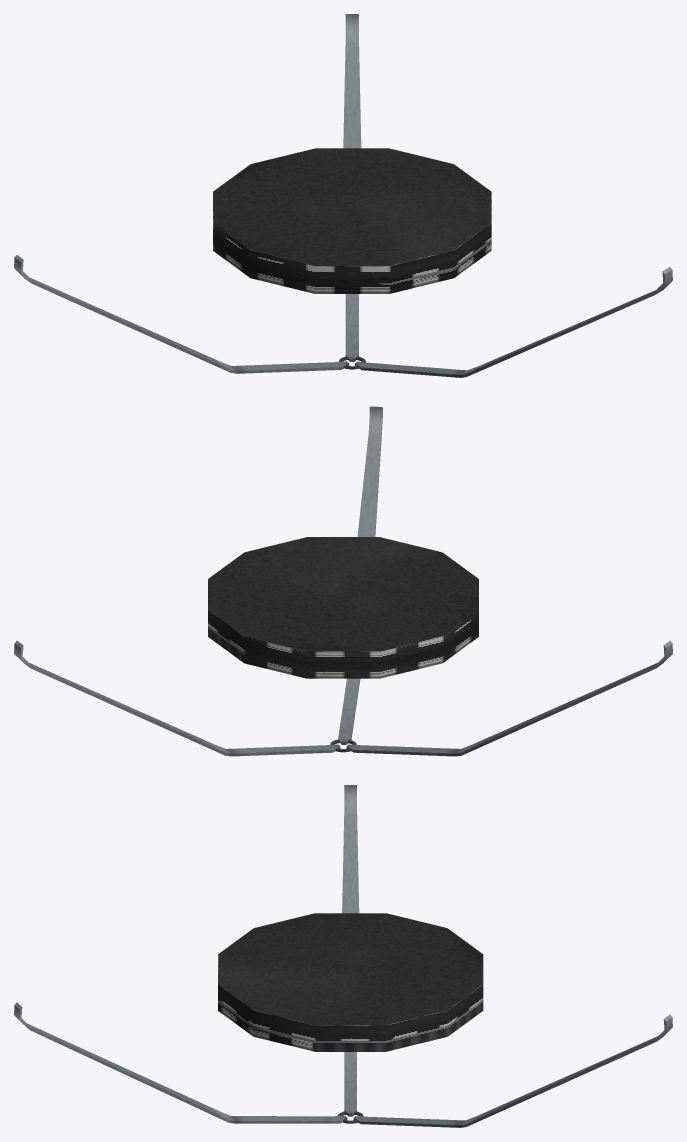
File: Mercury_Dec.FBX
The picture shows the model from 3 angles, top to bottom: view 1: azimuth 30°, elevation 25°; view 2: azimuth 150°, elevation 25°; view 3: azimuth 270°, elevation 25°; orthographic projection. The views are drawn at different scales.
Parts seen in each view (by area): view 1: Mercury_LFE_Dec, Mercury_Strap_001, Mercury_Dec_Col; view 2: Mercury_LFE_Dec, Mercury_Strap_001, Mercury_Dec_Col; view 3: Mercury_LFE_Dec, Mercury_Strap_001, Mercury_Dec_Col.
Part boxes in pixels (x1,y1,x2,y2): Mercury_LFE_Dec: [213, 148, 491, 266]; Mercury_Strap_001: [14, 14, 672, 377]; Mercury_Dec_Col: [213, 192, 491, 293]; Mercury_LFE_Dec: [208, 537, 478, 651]; Mercury_Strap_001: [14, 406, 672, 756]; Mercury_Dec_Col: [208, 610, 478, 678]; Mercury_LFE_Dec: [218, 913, 482, 1025]; Mercury_Strap_001: [14, 785, 672, 1127]; Mercury_Dec_Col: [218, 954, 483, 1051].
Size of the model in its own units: 94.98 by 33.62 by 112.
1 material, 1 textured.
